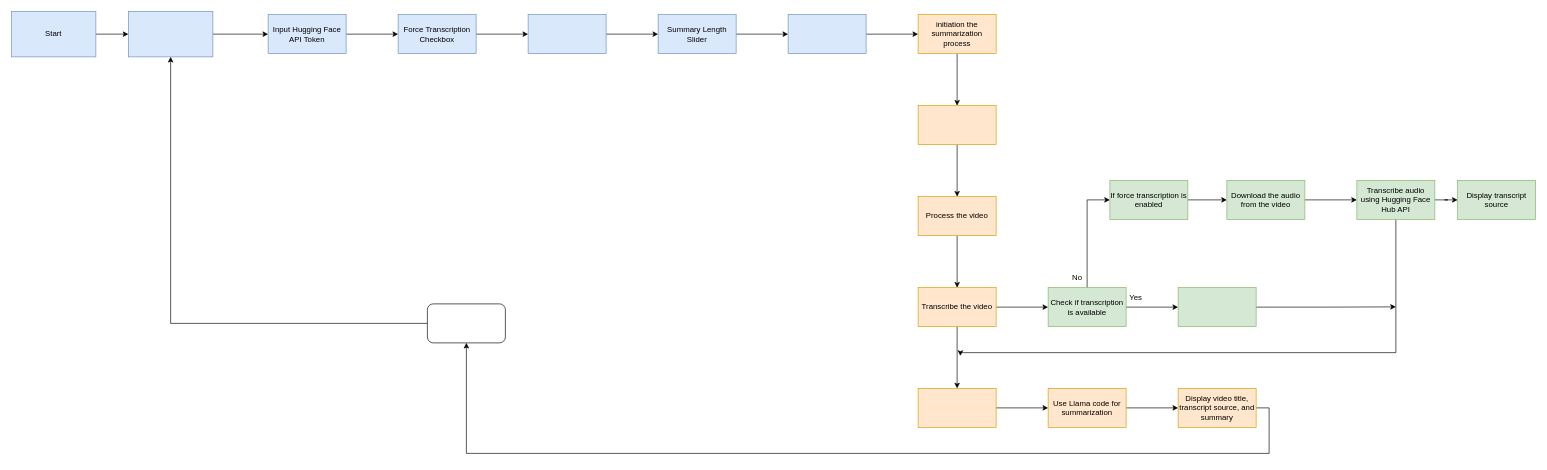
Image size: 1547x470. Some labels were removed from this diagram. The box of each missing label's shape, as (x1, y1, x2, y2) in pixels:
Check for a valid YouTube URL: (917, 105, 996, 145)
Click on Summarize Button: (787, 14, 866, 54)
Input Youtube URL: (128, 11, 213, 57)
Repeat: (427, 303, 505, 343)
Summarize the text: (917, 388, 996, 427)
Temperature Slider: (527, 14, 606, 54)
Use available transcript: (1177, 287, 1256, 327)
